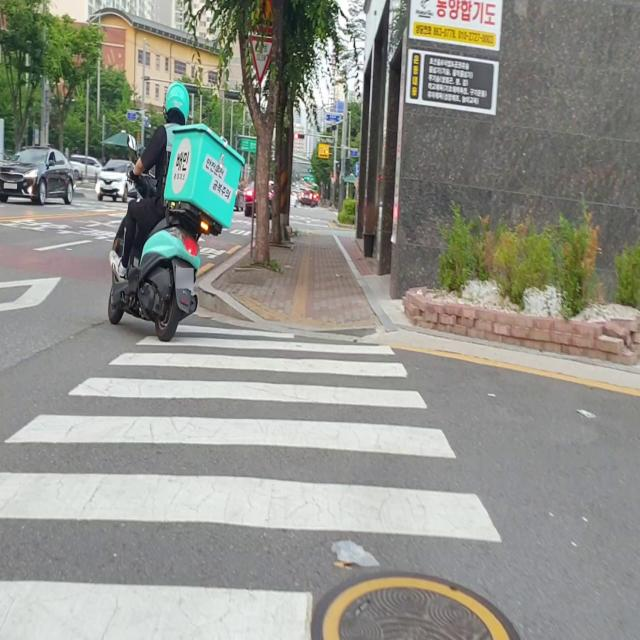횡단보도: (0, 321, 504, 640)
